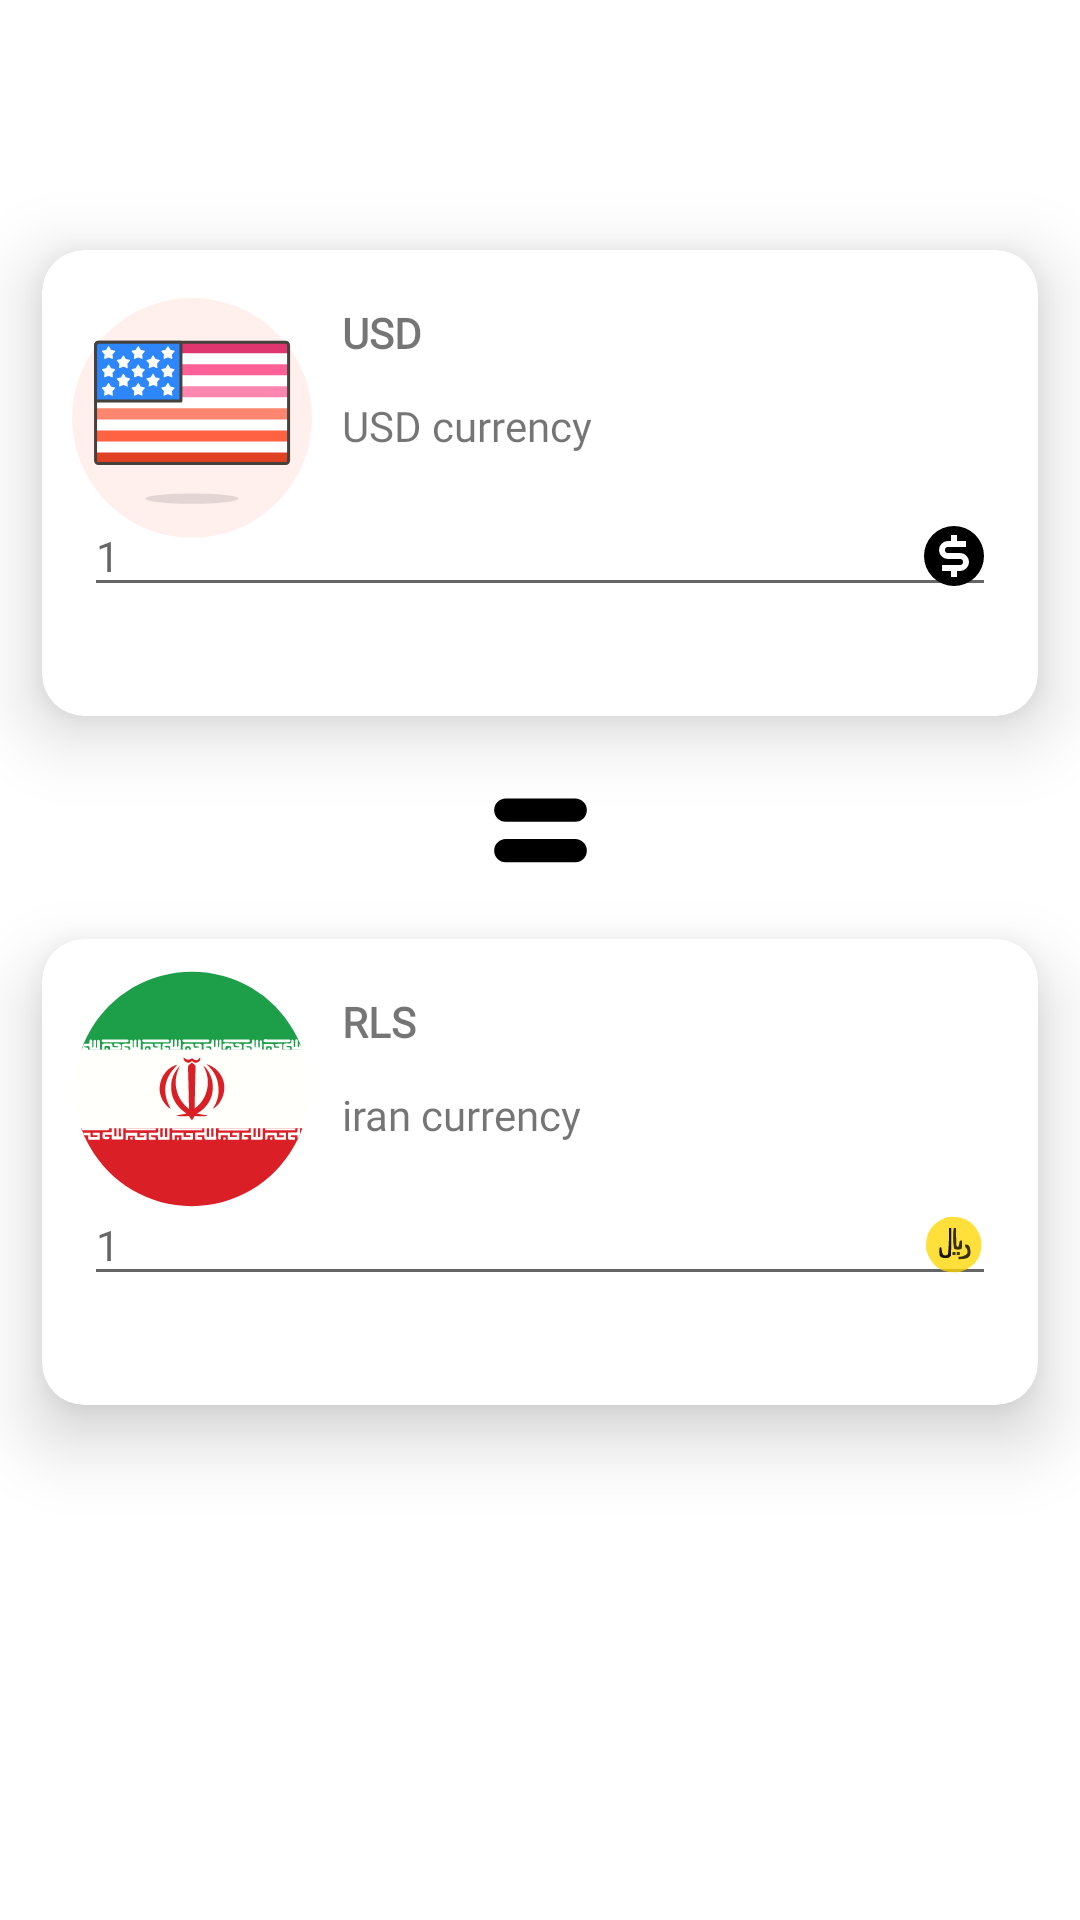

Locate icon controls on the screen. Image size 1080 × 1920, boxes as (x1, y1, x2, y2).
equal: (494, 798, 587, 863)
